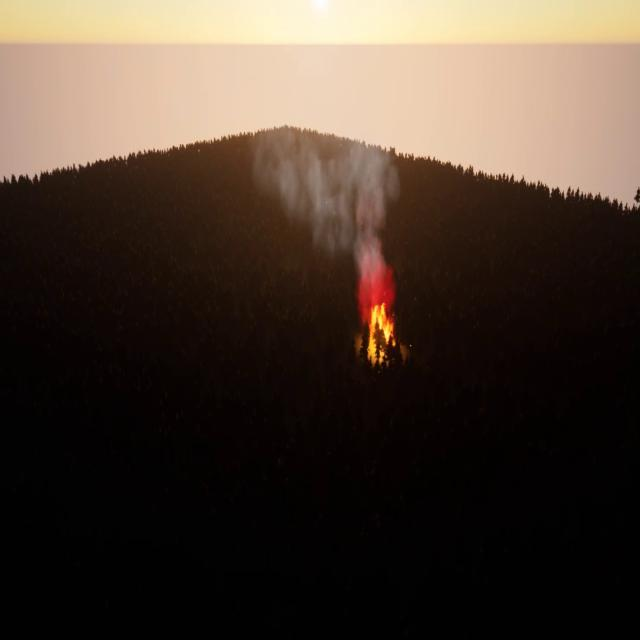fire: (363, 301, 406, 370)
smoke: (256, 120, 404, 310)
